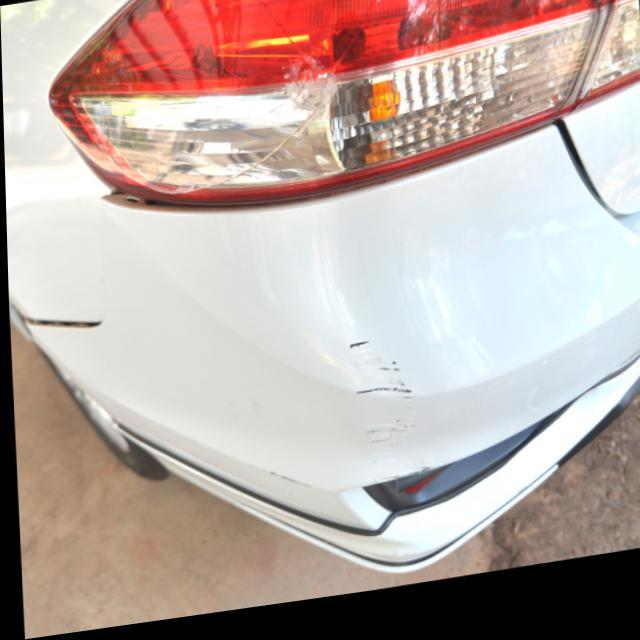lamp broken: (47, 0, 614, 212)
scratch: (340, 341, 422, 458)
